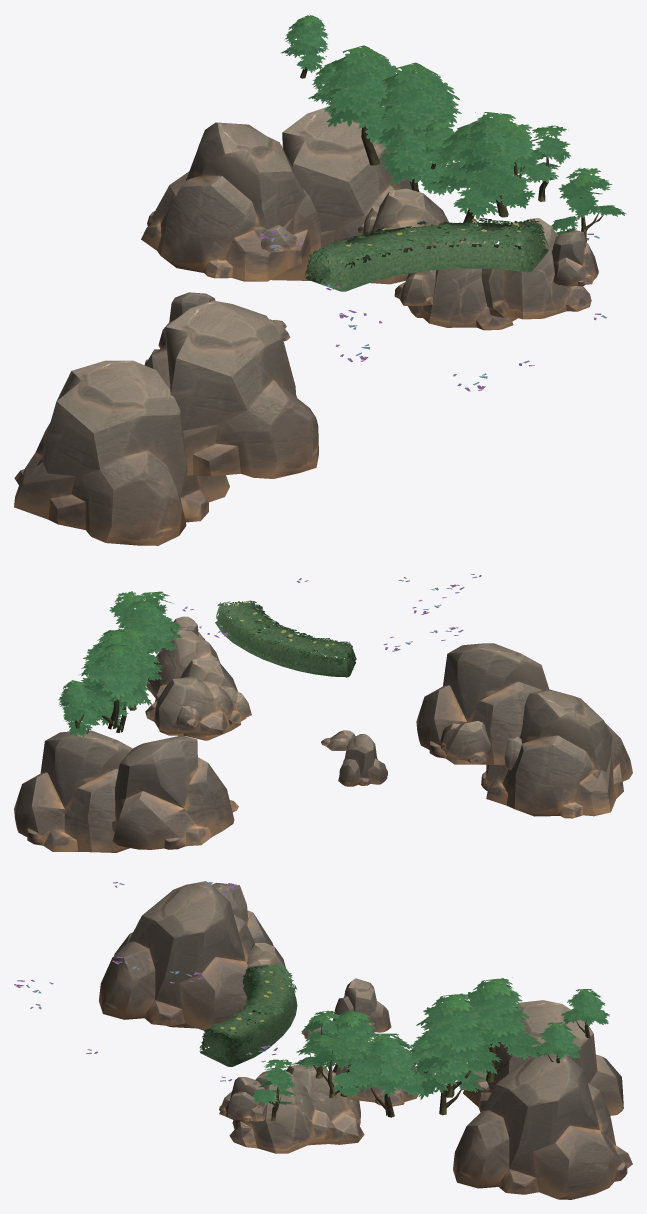
File: pref_sm_4v4pointbake_CSD_R02_lv2.fbx
3 views of the same model, one above another, from view 1: azimuth 30°, elevation 25°; view 2: azimuth 150°, elevation 25°; view 3: azimuth 270°, elevation 25° (orthographic). The views are drawn at different scales.
Visible parts, largest first — view 1: sm_4v4pointbake_CSD_R02_b_lv2, sm_4v4pointbake_CSD_R02_c_lv2; view 2: sm_4v4pointbake_CSD_R02_b_lv2, sm_4v4pointbake_CSD_R02_c_lv2, sm_4v4pointbake_CSD_R02_a_lv2; view 3: sm_4v4pointbake_CSD_R02_b_lv2, sm_4v4pointbake_CSD_R02_c_lv2, sm_4v4pointbake_CSD_R02_a_lv2.
Boxes of the visible parts, x1,y1,x2,y2 form: sm_4v4pointbake_CSD_R02_b_lv2: (14, 107, 598, 545); sm_4v4pointbake_CSD_R02_c_lv2: (281, 14, 626, 291); sm_4v4pointbake_CSD_R02_b_lv2: (14, 616, 632, 852); sm_4v4pointbake_CSD_R02_c_lv2: (58, 591, 356, 737); sm_4v4pointbake_CSD_R02_a_lv2: (182, 574, 481, 651); sm_4v4pointbake_CSD_R02_b_lv2: (99, 881, 632, 1199); sm_4v4pointbake_CSD_R02_c_lv2: (199, 961, 609, 1121); sm_4v4pointbake_CSD_R02_a_lv2: (14, 882, 277, 1081).
Bounding box in the file's own units: 28.57 × 9.5 × 29.17.
